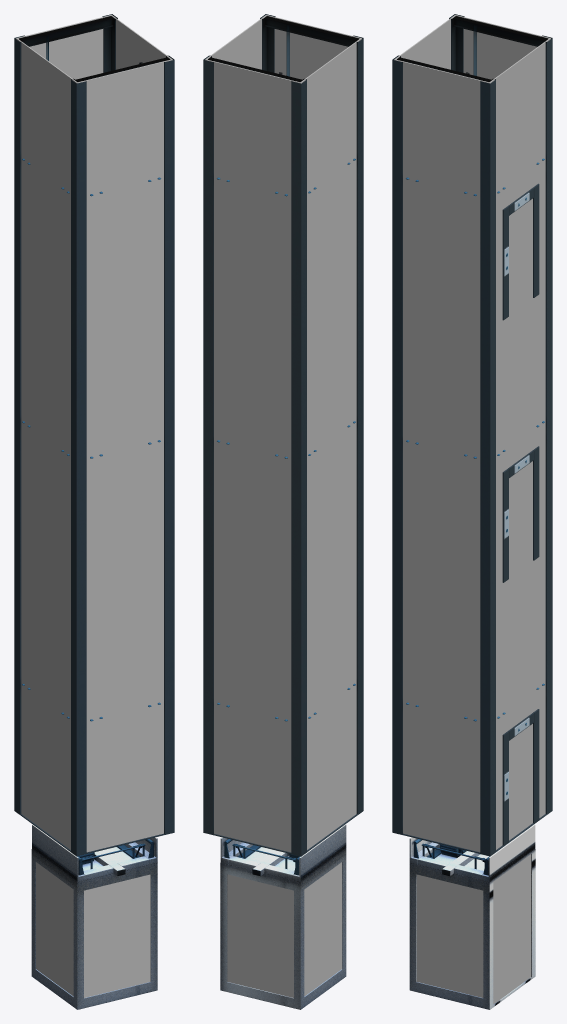
The picture shows the model from 3 angles, left to right: view 1: azimuth 30°, elevation 25°; view 2: azimuth 150°, elevation 25°; view 3: azimuth 330°, elevation 25°; orthographic projection.
Parts seen in each view (by area): view 1: F_1_dian_ti_B_4_bl, F_1_dian_ti_B, F_1_dian_ti_B_2_bl; view 2: F_1_dian_ti_B_4_bl, F_1_dian_ti_B, F_1_dian_ti_B_2_bl; view 3: F_1_dian_ti_B_4_bl, F_1_dian_ti_B, F_1_dian_ti_B_2_bl.
Boxes of the visible parts, left/top/right/bottom form: F_1_dian_ti_B_4_bl: left=16, top=15, right=172, bottom=852; F_1_dian_ti_B: left=14, top=14, right=174, bottom=1009; F_1_dian_ti_B_2_bl: left=36, top=862, right=150, bottom=997; F_1_dian_ti_B_4_bl: left=205, top=15, right=361, bottom=852; F_1_dian_ti_B: left=203, top=14, right=363, bottom=1009; F_1_dian_ti_B_2_bl: left=227, top=862, right=341, bottom=997; F_1_dian_ti_B_4_bl: left=394, top=15, right=550, bottom=852; F_1_dian_ti_B: left=392, top=14, right=552, bottom=1009; F_1_dian_ti_B_2_bl: left=416, top=854, right=531, bottom=1004.
Size of the model in its own units: 11.9 by 107 by 13.12.
Materials: 3 (2 with a texture image).
